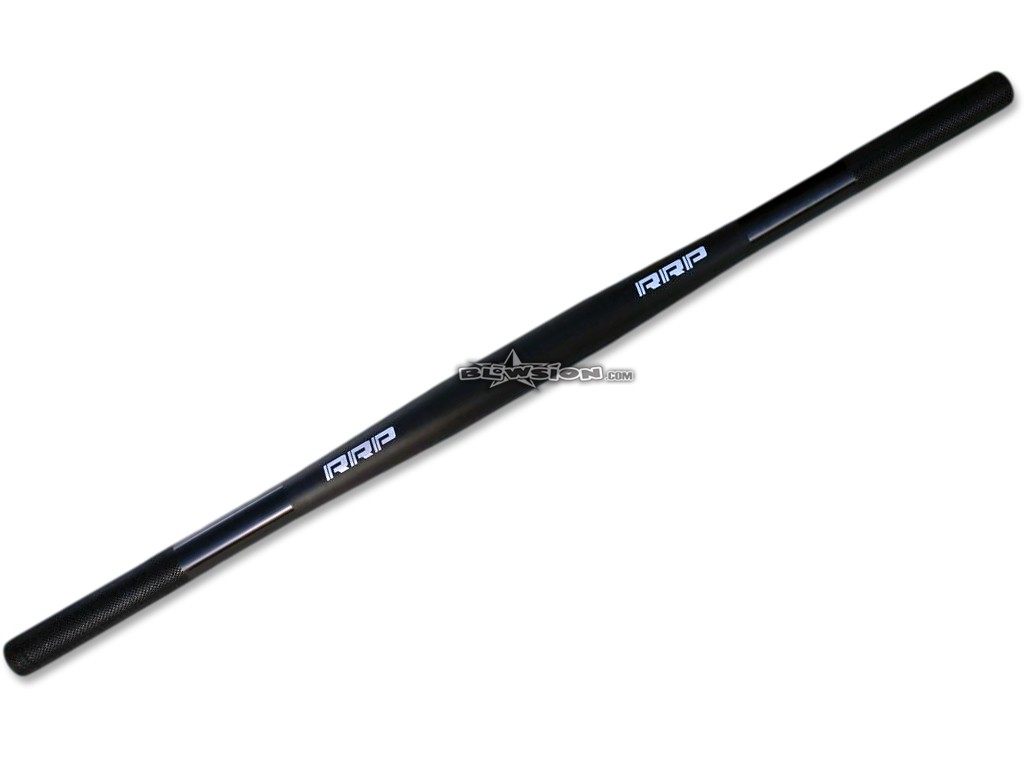straight_bar: (9, 51, 1022, 692)
